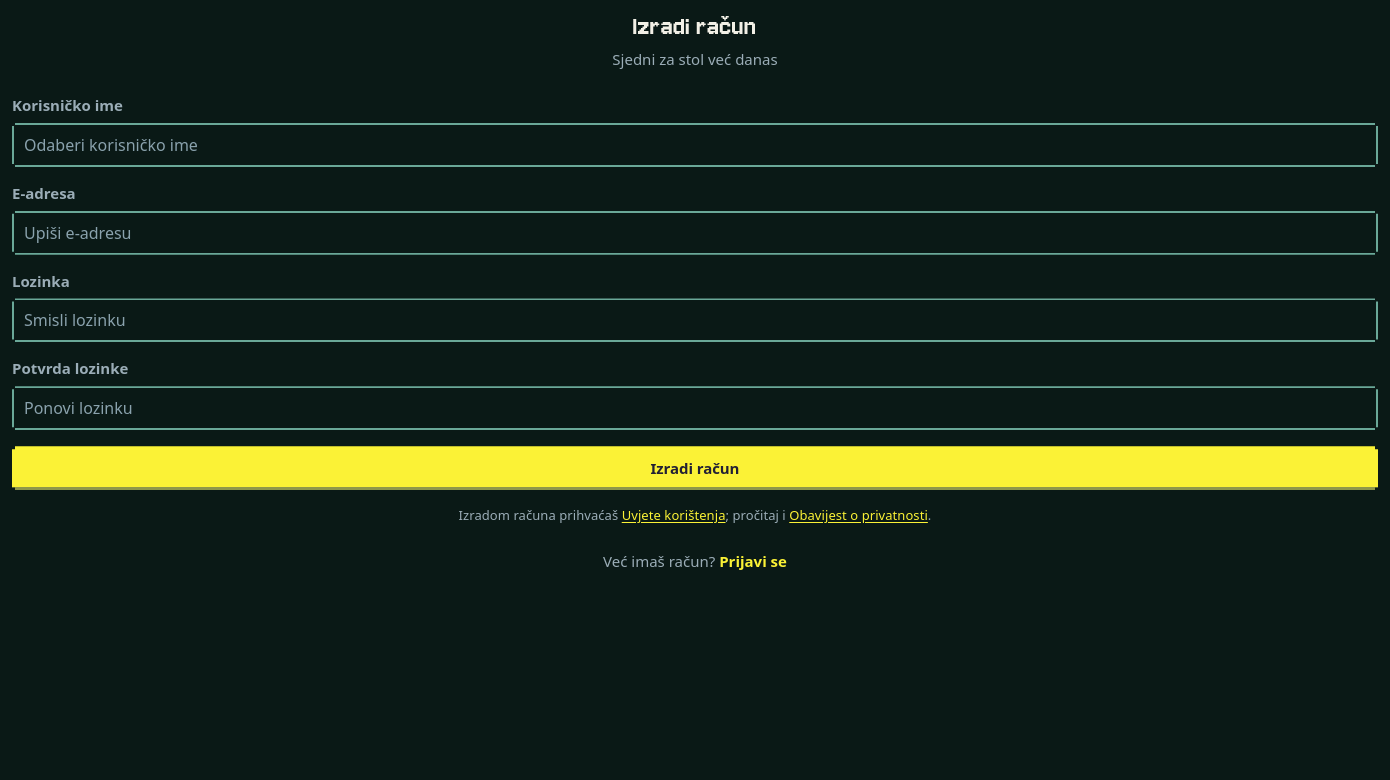
Test: SignupForm in Croatian (open beta §1.1) › sign-up in Croatian: the form, the legal line, a mismatch, and the inbox after a sign-up
The image size is (1390, 780).
expect the heading "Izradi račun" is shown: met, box x1=633 y1=11 x2=757 y2=42
Type "ana" into the field labelled "Korisničko ime" at coordinates (695, 145), box x1=12 y1=123 x2=1378 y2=167
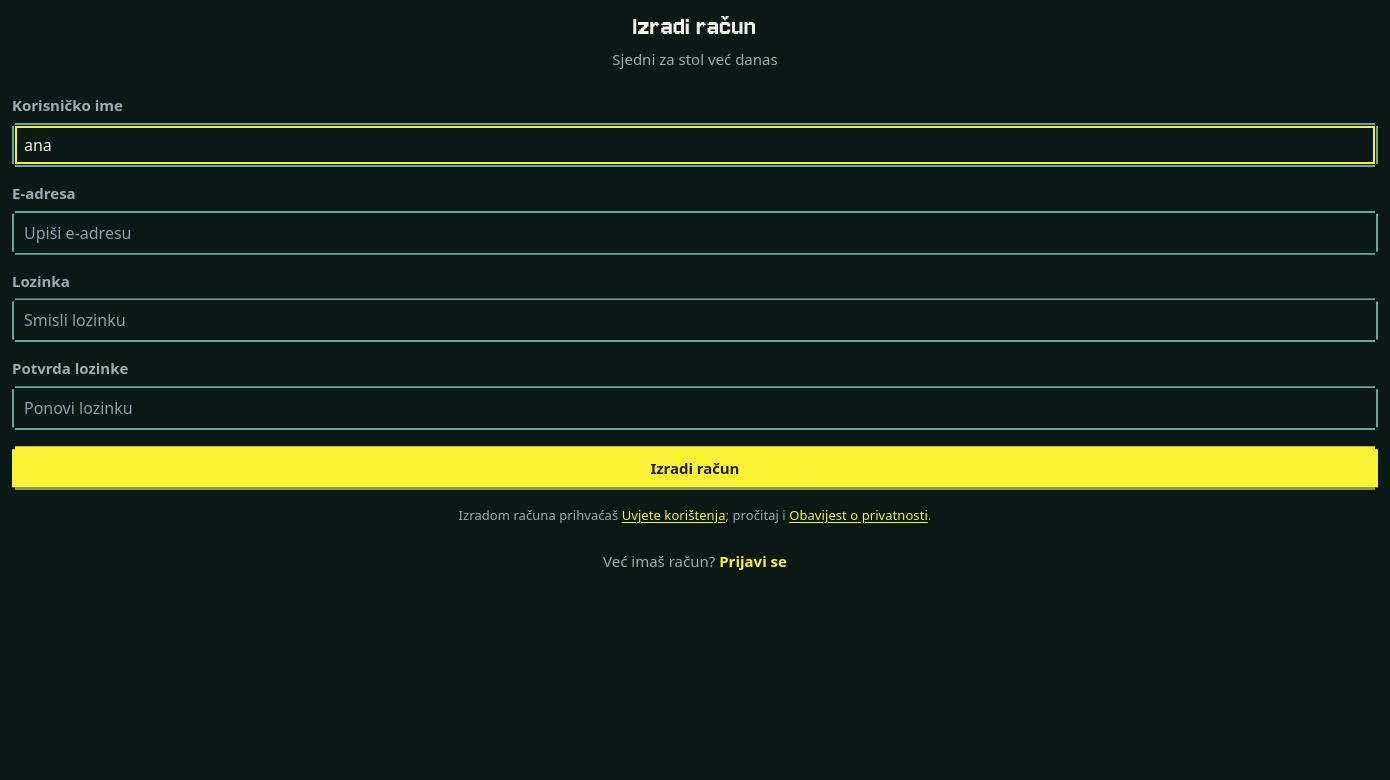
Type "ana@example.com" into the field labelled "E-adresa" at coordinates (695, 233), box x1=12 y1=211 x2=1378 y2=255
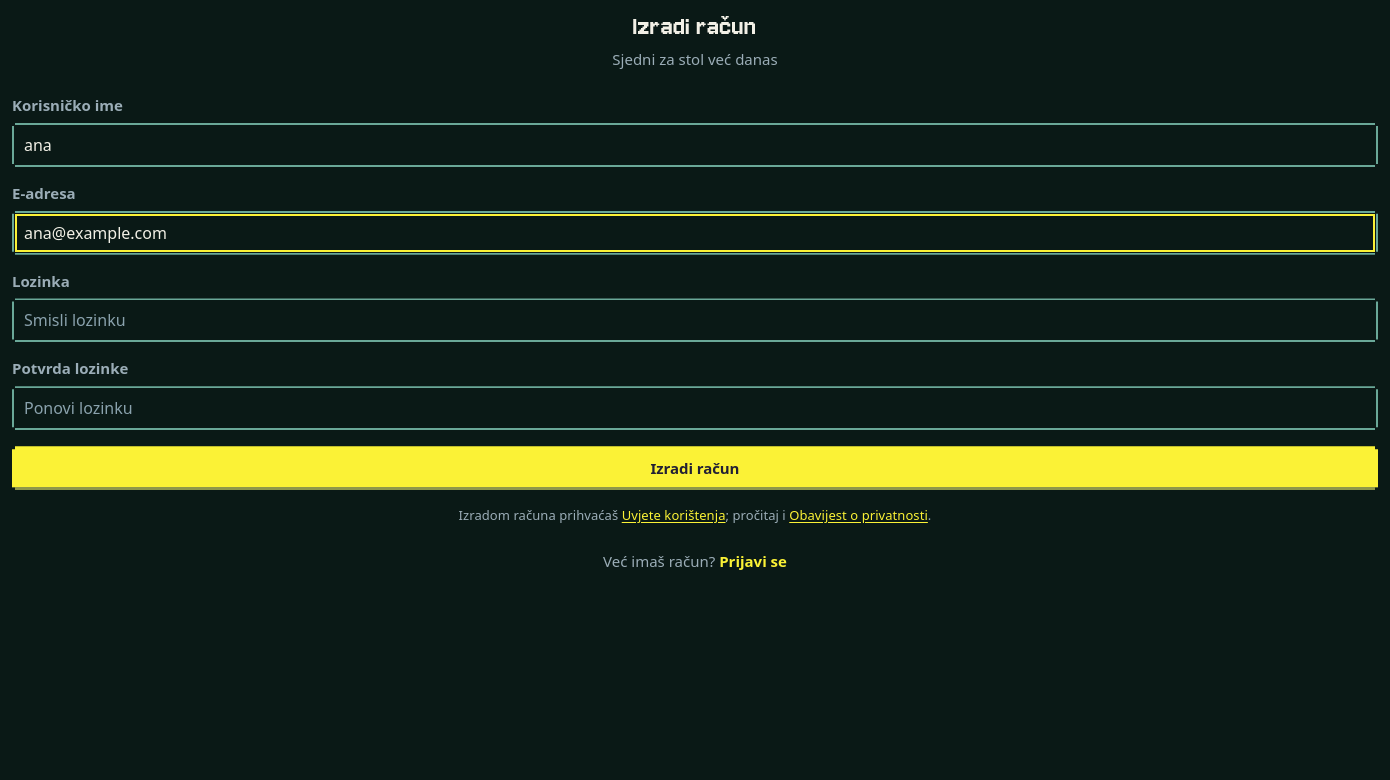
Type "long-enough-1" into the password field labelled "Lozinka" at coordinates (695, 320), box x1=12 y1=298 x2=1378 y2=342
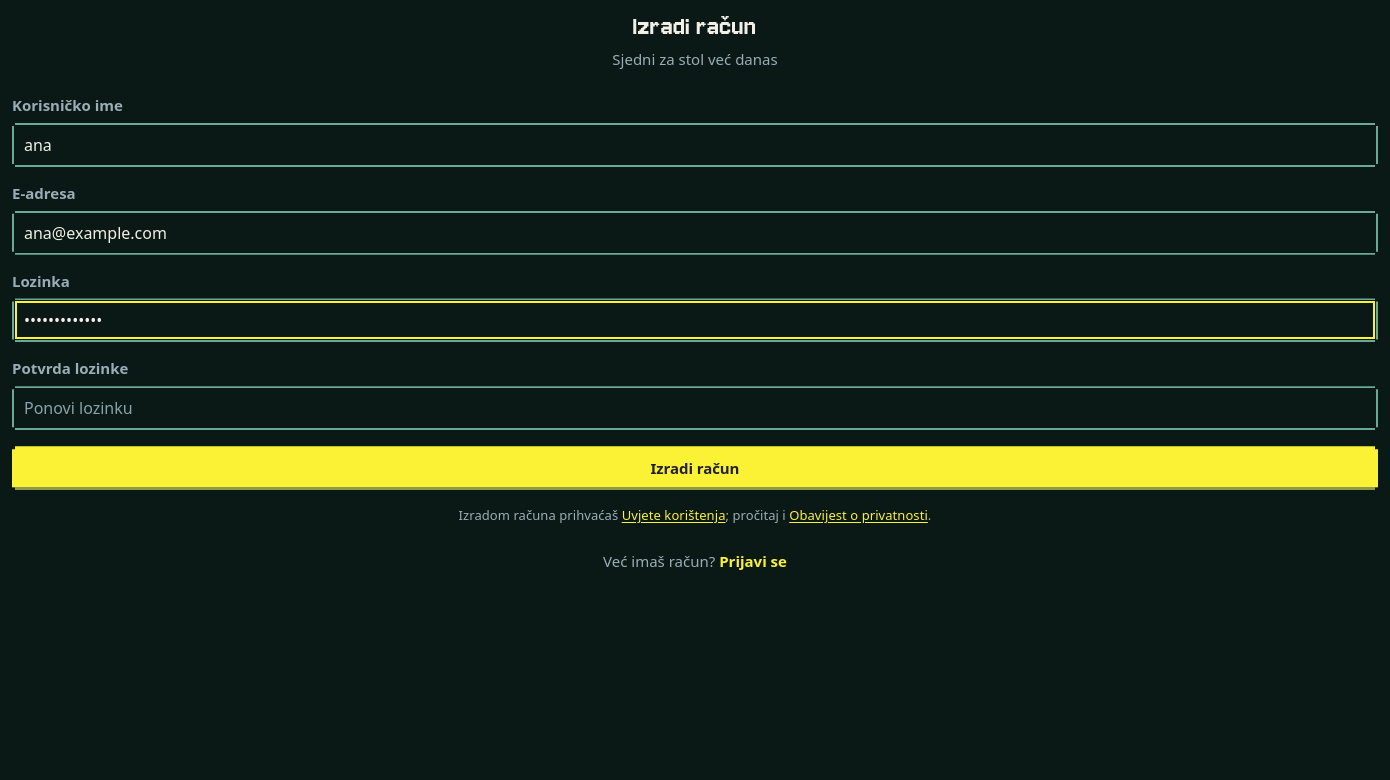
Type "long-enough-2" into the password field labelled "Potvrda lozinke" at coordinates (695, 408), box x1=12 y1=386 x2=1378 y2=430
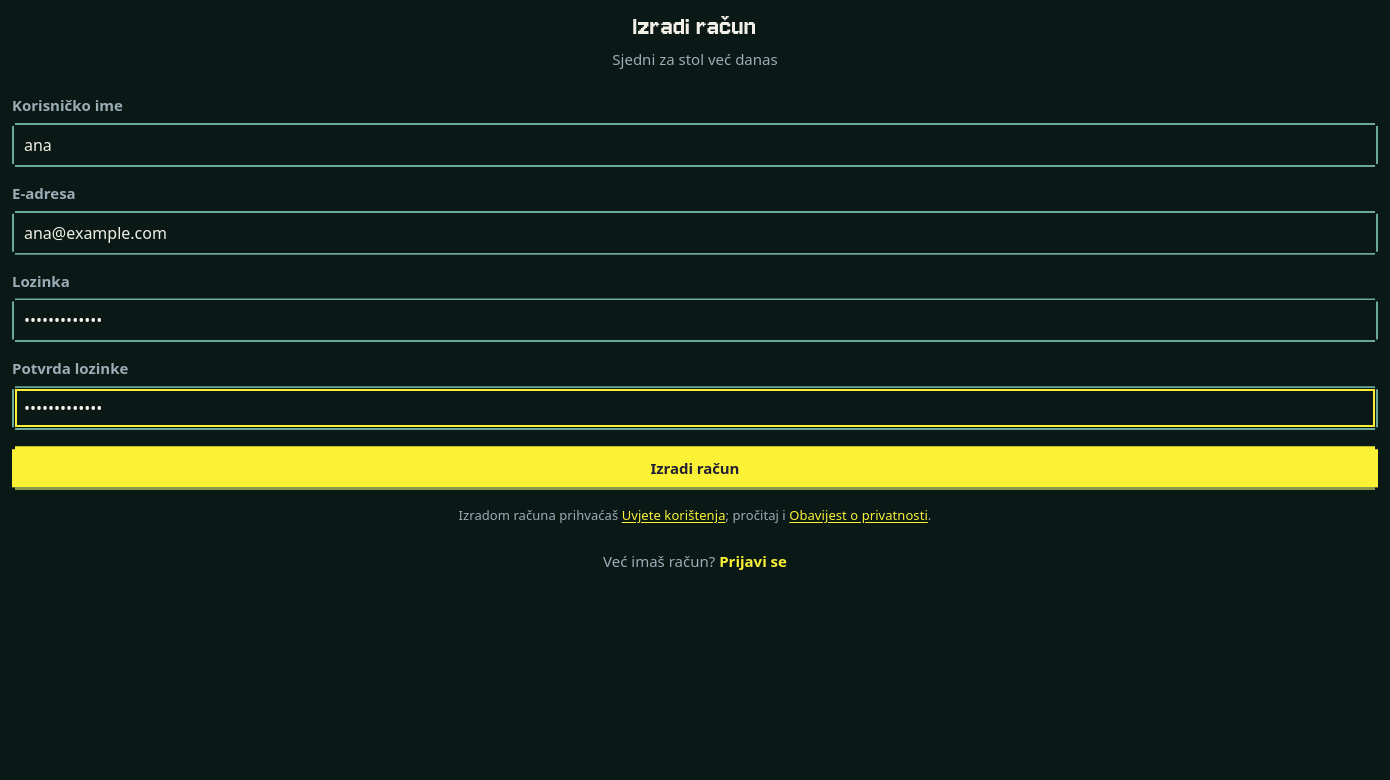
Click the button "Izradi račun" at coordinates (695, 468), box x1=12 y1=446 x2=1378 y2=490
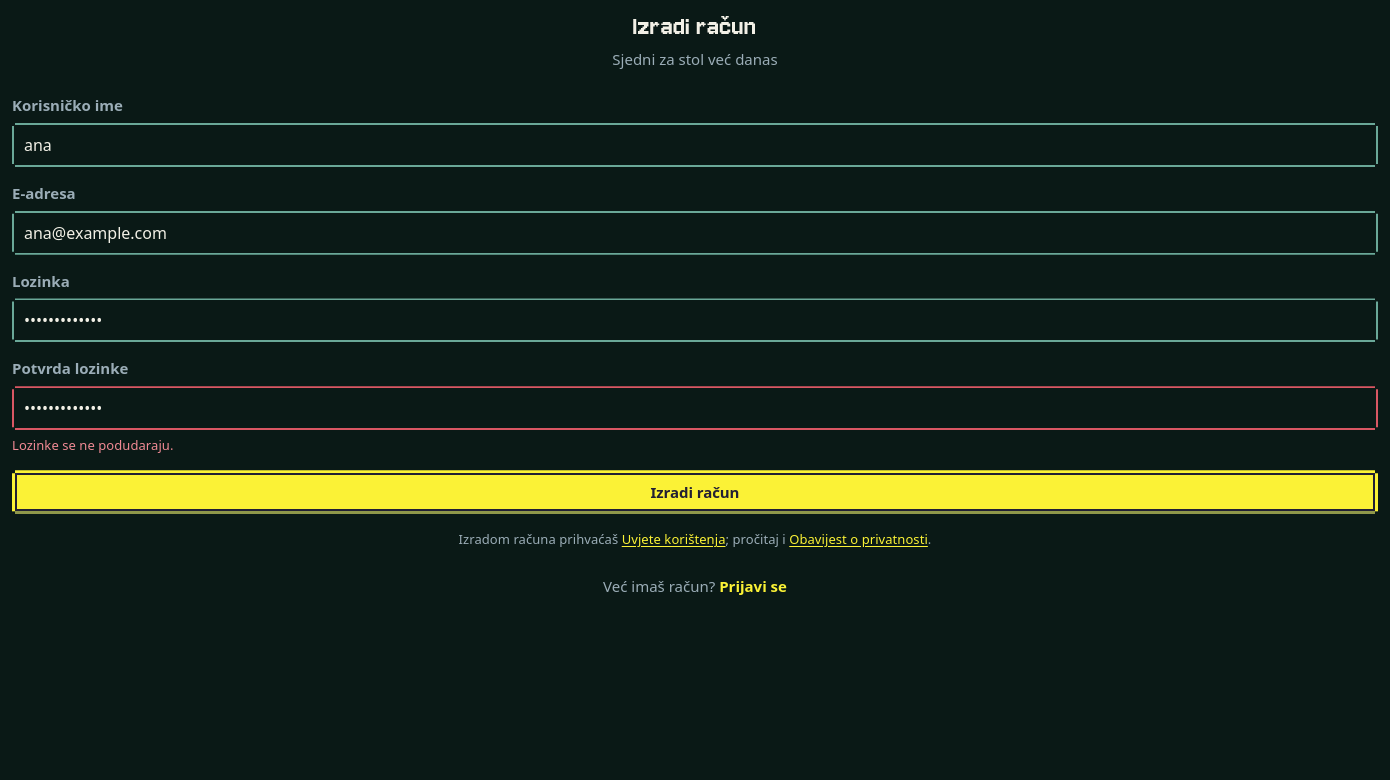
expect the text "Lozinke se ne podudaraju." is shown: met, box x1=12 y1=436 x2=174 y2=454
